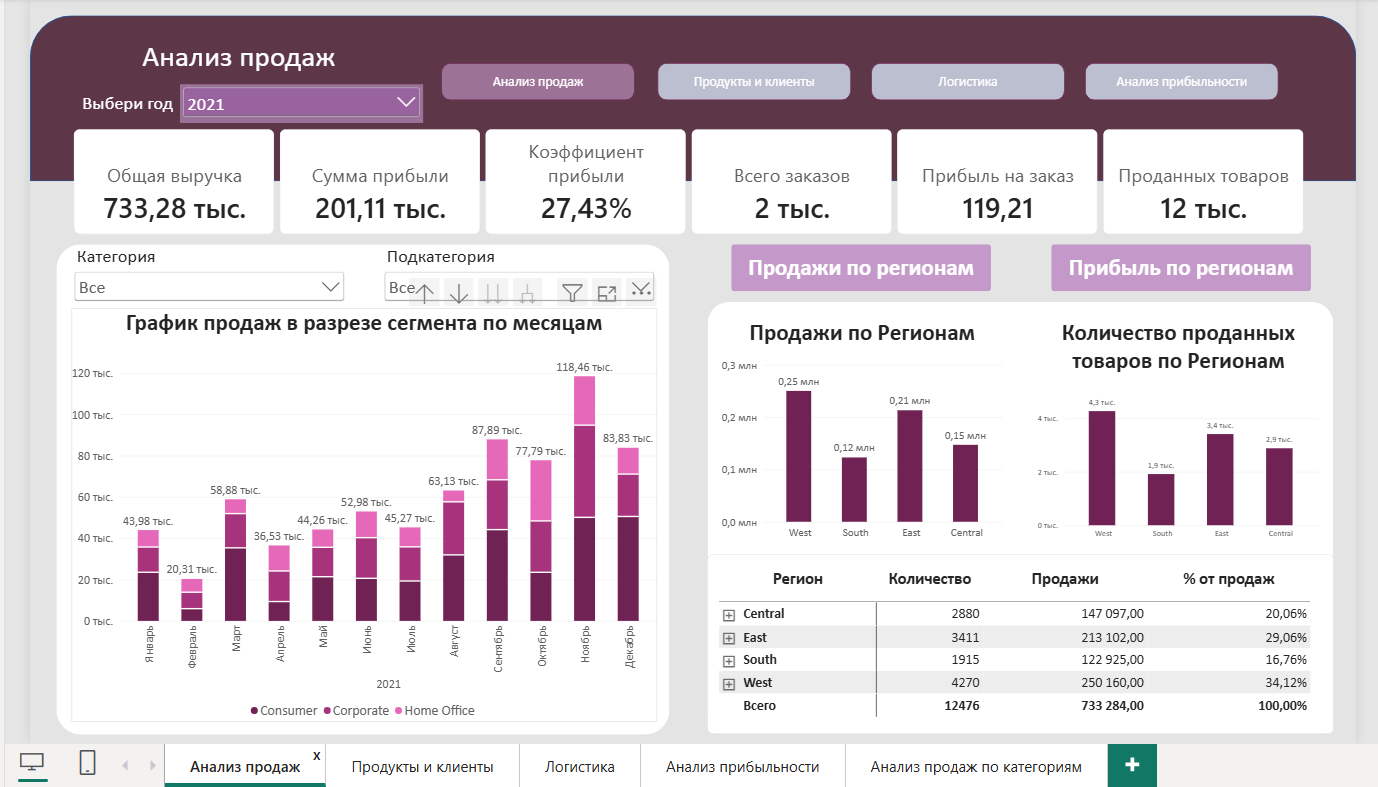

The dashboard page shown, as its layout file describes it:
{"tool":"powerbi","page":{"name":"Анализ продаж","canvas":[1920,1080],"ordinal":0},"visuals":[{"type":"shape","box":[980,440,906,626],"z":0},{"type":"shape","box":[38,356,888,710],"z":1000},{"type":"shape","box":[0,26,1920,240],"z":2000},{"type":"textbox","box":[64,58,478,66],"z":3000},{"type":"cardVisual","fields":{"Data":["Меры.Сумма продаж","Меры.Сумма прибыли","Меры.Коэффициент прибыли","Меры.Всего заказов","Меры.Прибыль на заказ","Меры.Проданных товаров"]},"box":[64,190,1784,152],"z":4000},{"type":"slicer","fields":{"Values":["Sample - Superstore_Orders.Year"]},"box":[218,124,352,56],"z":5000},{"type":"textbox","box":[66,134.9,152.6,55.1],"z":6000},{"type":"shape","title":"Анализ продаж","box":[596,94,280,54],"z":7000},{"type":"shape","title":"Анализ продаж","box":[908,94,280,54],"z":8000},{"type":"shape","title":"Анализ продаж","box":[1218,94,280,54],"z":9000},{"type":"shape","title":"Анализ продаж","box":[1528,94,280,54],"z":10000},{"type":"columnChart","title":"График продаж в разрезе сегмента по месяцам","fields":{"Category":["Sample - Superstore_Orders.Order Date.Изменение.Иерархия дат.Год","Sample - Superstore_Orders.Order Date.Изменение.Иерархия дат.Месяц"],"Series":["Sample - Superstore_Orders.Segment"],"Y":["Sum(Sample - Superstore_Orders.Sales)"]},"box":[60,448,848,600],"z":11000},{"type":"clusteredColumnChart","title":"Продажи по Регионам","fields":{"Category":["Sample - Superstore_Orders.Region"],"Y":["Меры.Сумма продаж"]},"box":[1000,464,408,324],"z":12000},{"type":"clusteredColumnChart","title":"Количество проданных товаров по Регионам","fields":{"Category":["Sample - Superstore_Orders.Region"],"Y":["Меры.Проданных товаров"]},"box":[1458,464,408,324],"z":14000},{"type":"slicer","fields":{"Values":["Sample - Superstore_Orders.Category"]},"box":[60,356,400,92],"z":16000},{"type":"slicer","fields":{"Values":["Sample - Superstore_Orders.Sub-Category"]},"box":[508,356,400,92],"z":17000},{"type":"pivotTable","fields":{"Rows":["Sample - Superstore_Orders.Region","Sample - Superstore_Orders.Sub-Category"],"Values":["Sum(Sample - Superstore_Orders.Quantity)","Sum(Sample - Superstore_Orders.Sales)","Меры.% от продаж"]},"box":[980,806,906,260],"z":18000},{"type":"actionButton","title":"Продажи по регионам","box":[1016,356,376,68],"z":19000},{"type":"actionButton","title":"Продажи по регионам","box":[1478,356,376,68],"z":20000}]}

Visuals, with their boxes on the page's 1920x1080 design canvas (x1, y1, x2, y2). These are canvas units, not pixel positions in the 1378x787 screenshot, which may show the page scaled, cropped or inside an application window:
shape: l=980, t=440, r=1886, b=1066
shape: l=38, t=356, r=926, b=1066
shape: l=0, t=26, r=1920, b=266
textbox: l=64, t=58, r=542, b=124
cardVisual - Меры.Сумма продаж x Меры.Сумма прибыли: l=64, t=190, r=1848, b=342
slicer - Sample - Superstore_Orders.Year: l=218, t=124, r=570, b=180
textbox: l=66, t=135, r=219, b=190
"Анализ продаж" shape: l=596, t=94, r=876, b=148
"Анализ продаж" shape: l=908, t=94, r=1188, b=148
"Анализ продаж" shape: l=1218, t=94, r=1498, b=148
"Анализ продаж" shape: l=1528, t=94, r=1808, b=148
"График продаж в разрезе сегмента по месяцам" columnChart: l=60, t=448, r=908, b=1048
"Продажи по Регионам" clusteredColumnChart: l=1000, t=464, r=1408, b=788
"Количество проданных товаров по Регионам" clusteredColumnChart: l=1458, t=464, r=1866, b=788
slicer - Sample - Superstore_Orders.Category: l=60, t=356, r=460, b=448
slicer - Sample - Superstore_Orders.Sub-Category: l=508, t=356, r=908, b=448
pivotTable - Sample - Superstore_Orders.Region x Sample - Superstore_Orders.Sub-Category: l=980, t=806, r=1886, b=1066
"Продажи по регионам" actionButton: l=1016, t=356, r=1392, b=424
"Продажи по регионам" actionButton: l=1478, t=356, r=1854, b=424
